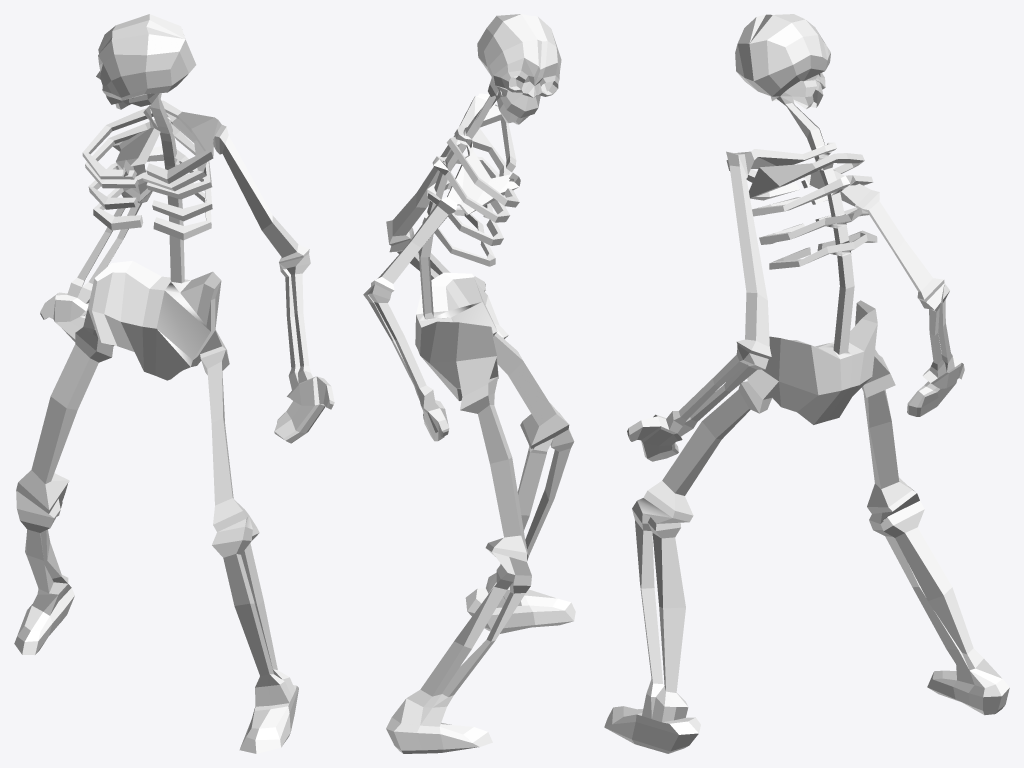
File: SkeletonIdle(61).obj
3 views of the same model, side by side, from view 1: azimuth 30°, elevation 25°; view 2: azimuth 150°, elevation 25°; view 3: azimuth 270°, elevation 25° (orthographic). The views are drawn at different scales.
Visible parts, largest first — view 1: Object002; view 2: Object002; view 3: Object002.
Part boxes in pixels (x1,y1,x2,y2): Object002: (14, 14, 334, 753); Object002: (363, 14, 575, 753); Object002: (604, 14, 1009, 753).
Size of the model in its own units: 380 by 1124 by 595.
